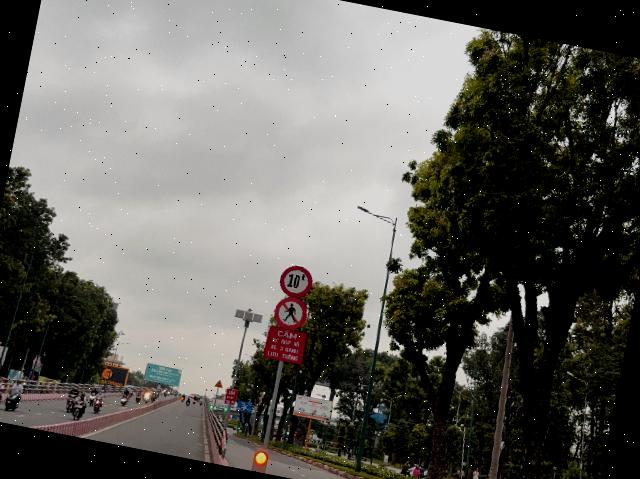cam-nguoi-di-bo: (271, 294, 309, 332)
han-che-trong-luong-xe: (276, 262, 314, 300)
